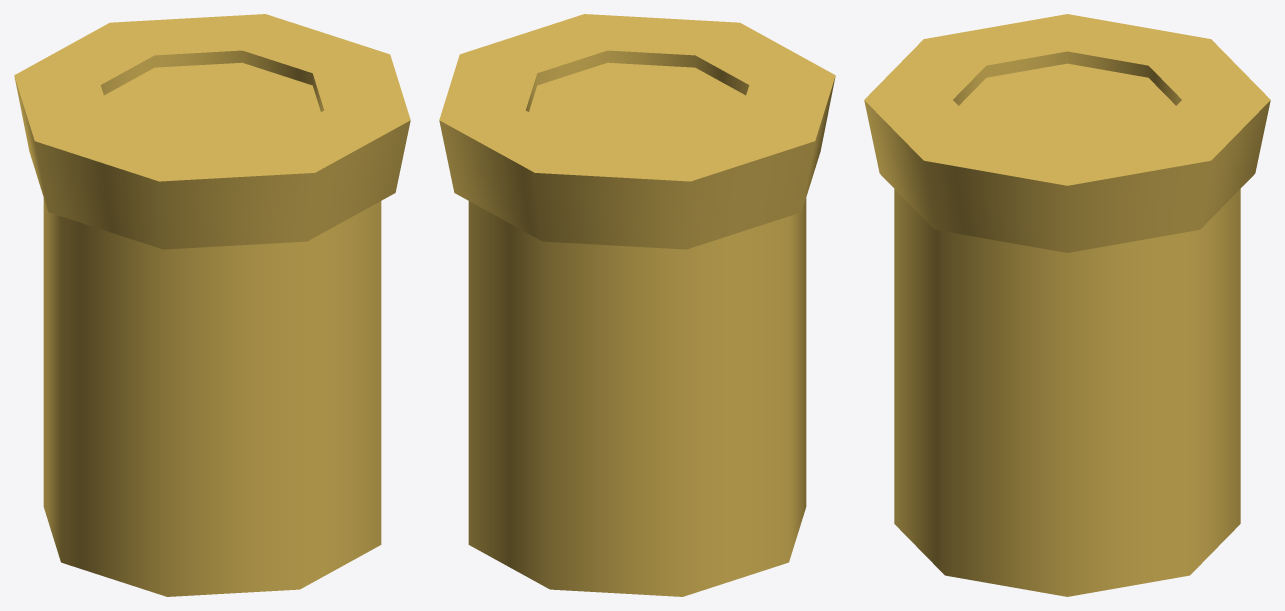
Rendered from Bullet Casing.fbx.
3 renders of one model, left to right at view 1: azimuth 30°, elevation 25°; view 2: azimuth 150°, elevation 25°; view 3: azimuth 270°, elevation 25°, orthographic.
Parts seen in each view (by area): view 1: Bullet Casing; view 2: Bullet Casing; view 3: Bullet Casing.
Boxes of the visible parts, x1,y1,x2,y2 form: Bullet Casing: (14, 14, 410, 596); Bullet Casing: (439, 14, 835, 596); Bullet Casing: (864, 14, 1270, 596).
Size of the model in its own units: 18 by 20.7 by 18.
